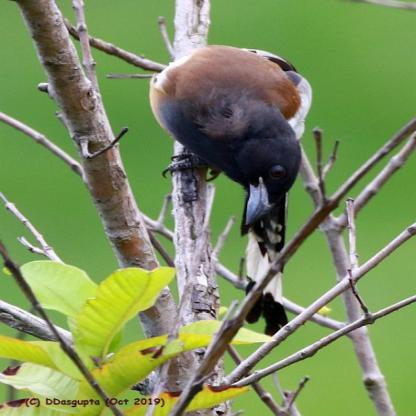Burung: (148, 45, 312, 335)
